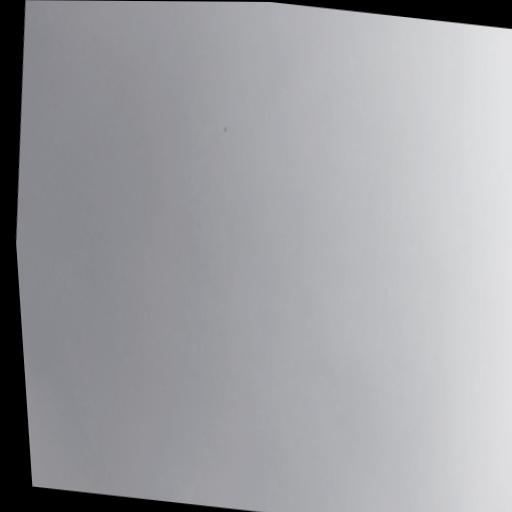drones: (220, 122, 231, 138)
